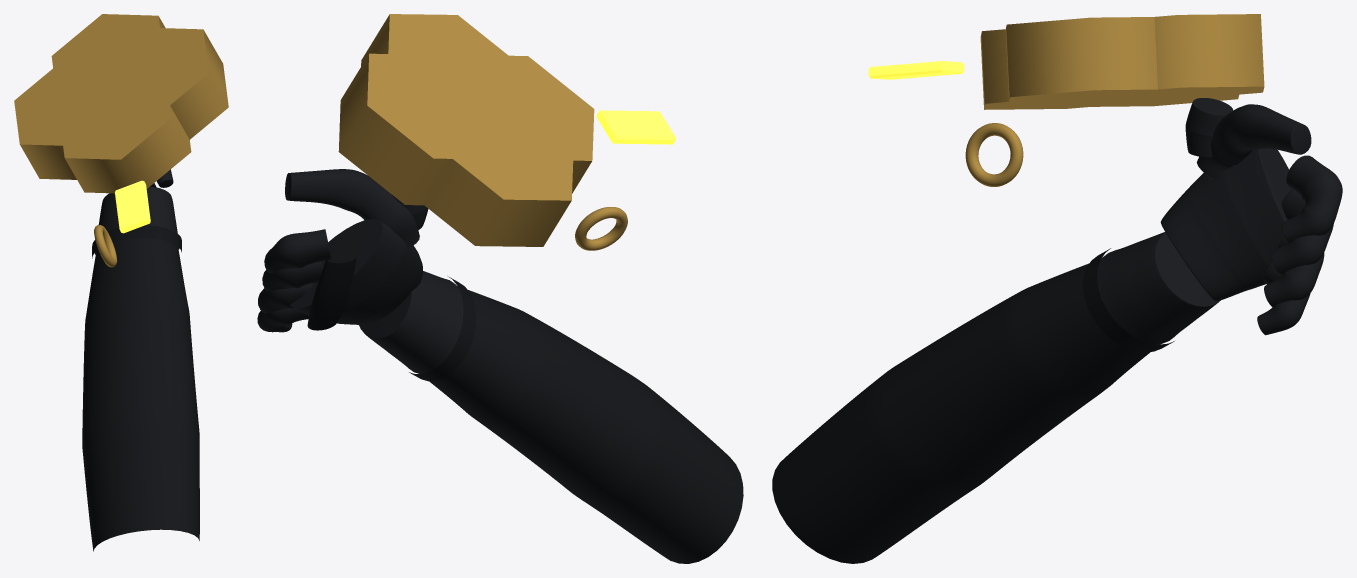
File: hands_forge_magout.glb
The picture shows the model from 3 angles, left to right: view 1: azimuth 30°, elevation 25°; view 2: azimuth 150°, elevation 25°; view 3: azimuth 270°, elevation 25°; orthographic projection. The views are drawn at different scales.
Visible parts, largest first — view 1: hand_l_forearm, hand_l_bolts, hand_l_cuff, hand_l_lamp, hand_l_cuff_strap, hand_l_tool_loop; view 2: hand_l_bolts, hand_l_forearm, hand_l_palm, hand_l_cuff, hand_l_thumb, hand_l_lamp, hand_l_knuckle_panel, hand_l_index, hand_l_cuff_strap, hand_l_tool_loop, hand_l_middle, hand_l_ring (+1 smaller); view 3: hand_l_forearm, hand_l_bolts, hand_l_palm, hand_l_cuff, hand_l_thumb, hand_l_index, hand_l_tool_loop, hand_l_middle, hand_l_cuff_strap, hand_l_web, hand_l_ring, hand_l_little (+1 smaller).
Part boxes in pixels (x1,y1,x2,y2): hand_l_forearm: [82, 238, 199, 551]; hand_l_bolts: [14, 14, 228, 193]; hand_l_cuff: [95, 186, 179, 254]; hand_l_lamp: [115, 180, 150, 233]; hand_l_cuff_strap: [92, 225, 181, 258]; hand_l_tool_loop: [94, 225, 117, 267]; hand_l_bolts: [338, 14, 594, 246]; hand_l_forearm: [429, 286, 743, 563]; hand_l_palm: [290, 219, 422, 324]; hand_l_cuff: [359, 271, 463, 373]; hand_l_thumb: [285, 169, 419, 248]; hand_l_lamp: [596, 110, 675, 144]; hand_l_knuckle_panel: [307, 258, 356, 330]; hand_l_index: [264, 229, 331, 273]; hand_l_cuff_strap: [409, 276, 476, 381]; hand_l_tool_loop: [575, 207, 627, 250]; hand_l_middle: [262, 261, 323, 291]; hand_l_ring: [258, 283, 312, 313]; hand_l_forearm: [772, 263, 1159, 563]; hand_l_bolts: [980, 14, 1264, 109]; hand_l_palm: [1160, 148, 1292, 301]; hand_l_cuff: [1097, 232, 1220, 344]; hand_l_thumb: [1196, 104, 1311, 178]; hand_l_index: [1281, 155, 1342, 243]; hand_l_tool_loop: [965, 123, 1023, 186]; hand_l_middle: [1271, 189, 1333, 275]; hand_l_cuff_strap: [1082, 248, 1174, 352]; hand_l_web: [1185, 98, 1233, 157]; hand_l_ring: [1264, 238, 1324, 307]; hand_l_little: [1257, 262, 1310, 335].
Bounding box in the file's own units: 0.1719 × 0.3284 × 0.2661.
